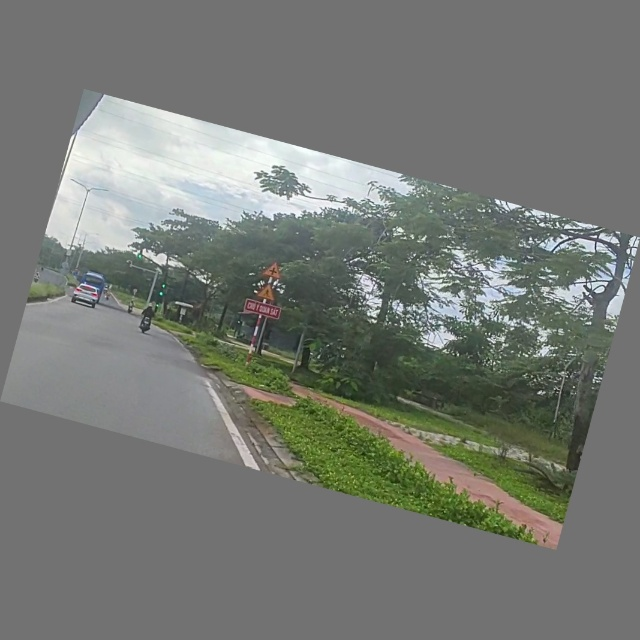W.205a: (261, 260, 285, 281)
W.224: (256, 281, 280, 302)
